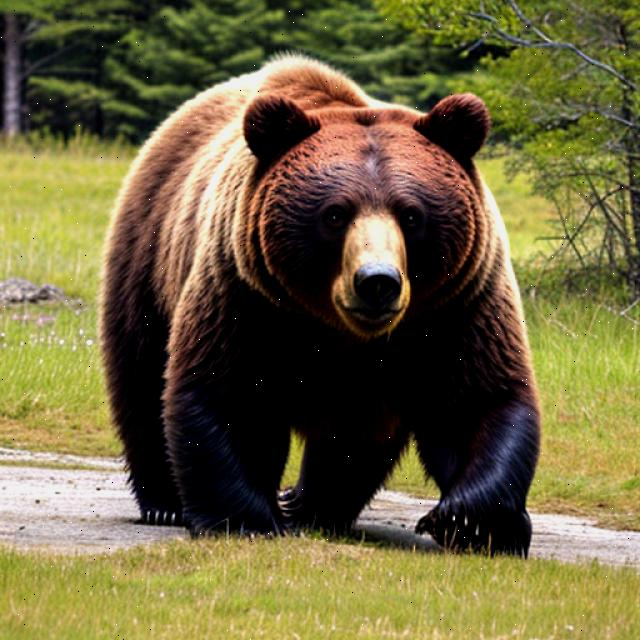bear: (224, 83, 506, 349)
